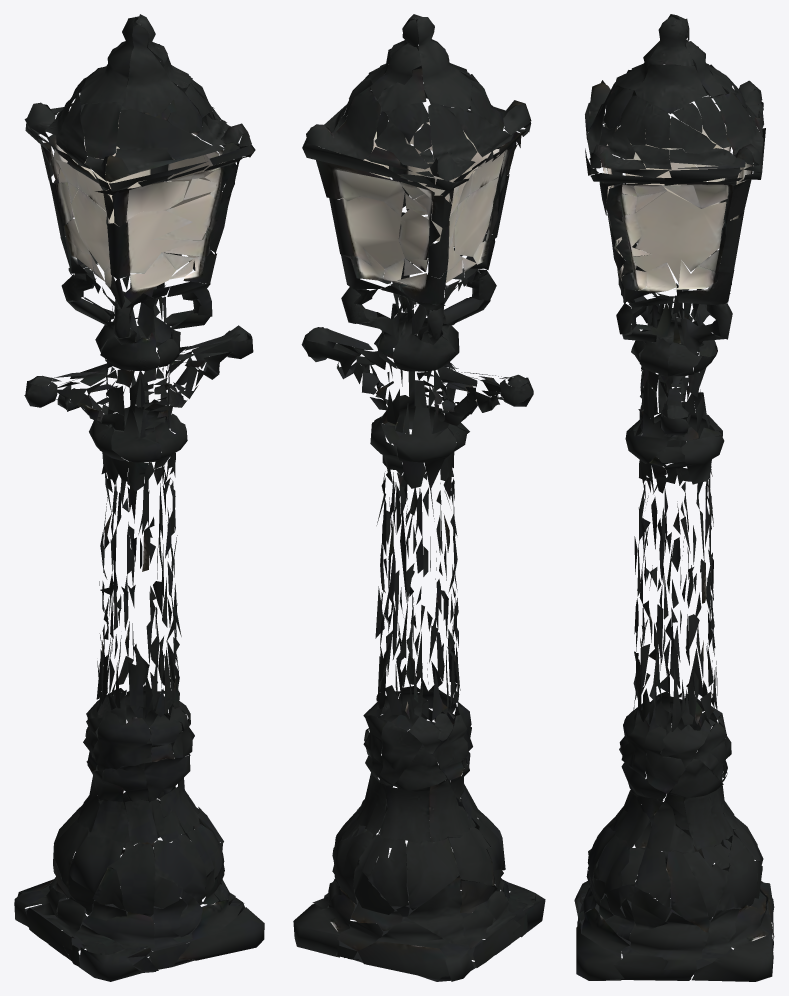
The model's file is streetLamp.glb.
The picture shows the model from 3 angles, left to right: view 1: azimuth 30°, elevation 25°; view 2: azimuth 150°, elevation 25°; view 3: azimuth 270°, elevation 25°; orthographic projection.
Visible parts, largest first — view 1: Mesh_0; view 2: Mesh_0; view 3: Mesh_0.
Boxes of the visible parts, x1,y1,x2,y2 form: Mesh_0: (14,14,264,981); Mesh_0: (293,14,545,981); Mesh_0: (574,14,774,981).
Bounding box in the file's own units: 0.884 × 3.4 × 0.6668.
Materials: 1 (1 with a texture image).
